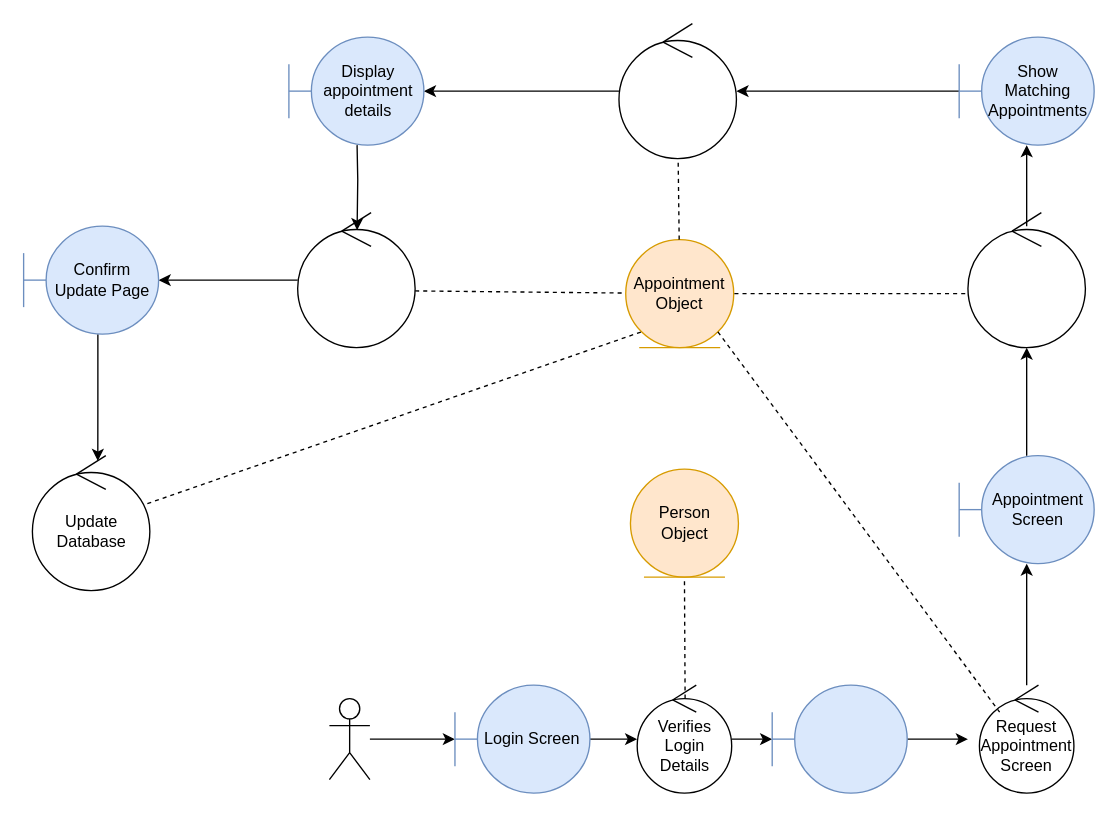
This 1118x832 diagram has some shape labels left out. Here are the shapes that lost their labels. From the top down, the centre of each, then its label:
(x=677, y=90): Search Database For appointment details
(x=355, y=279): Validate appointment updates
(x=1026, y=279): Search Database For matching user appointments
(x=349, y=738): Nurse
(x=839, y=738): Home Screen
